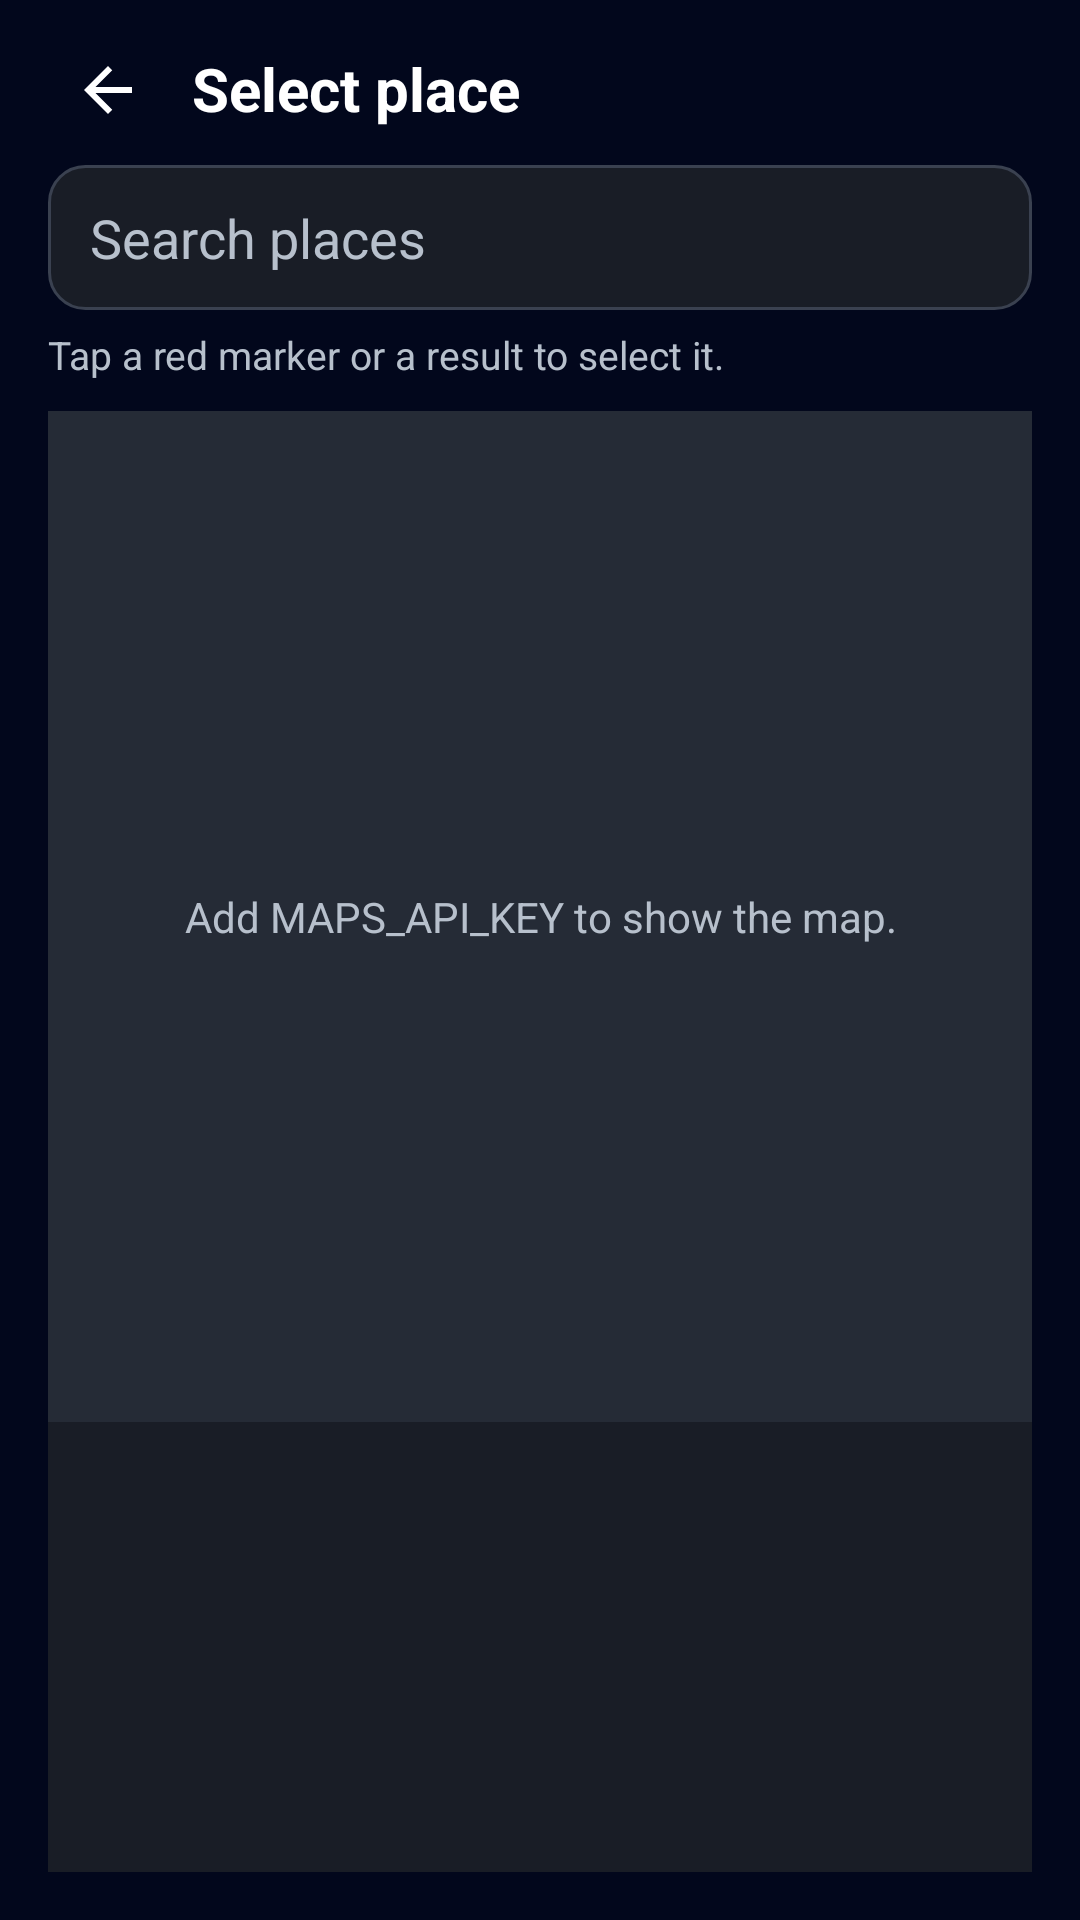

Icons on this 1080×1920 Android screen, each with the point to tap as point (x, y):
Cancel: point (108, 90)
